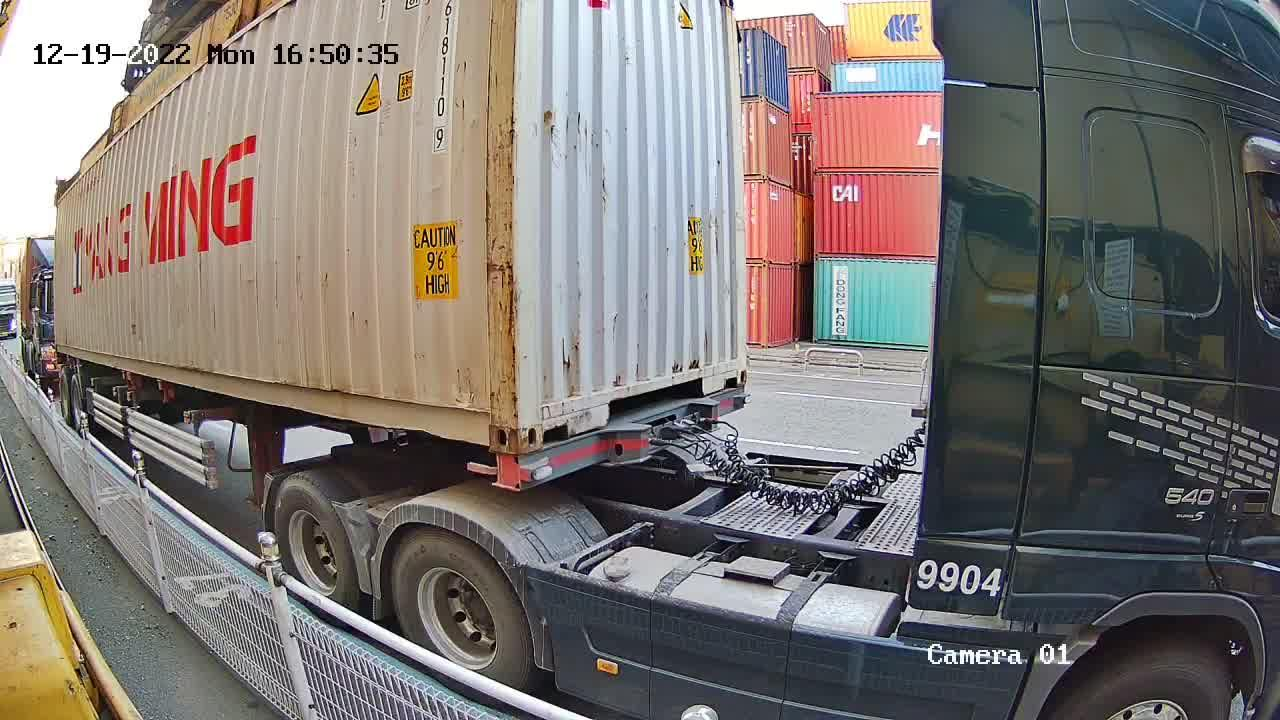Chassis: (497, 387, 744, 489)
Cone: (488, 453, 518, 489)
Hole_L: (517, 392, 570, 454)
Hole_R: (455, 388, 516, 452), (715, 347, 749, 389)
Tire: (392, 530, 530, 684), (275, 482, 353, 601)
